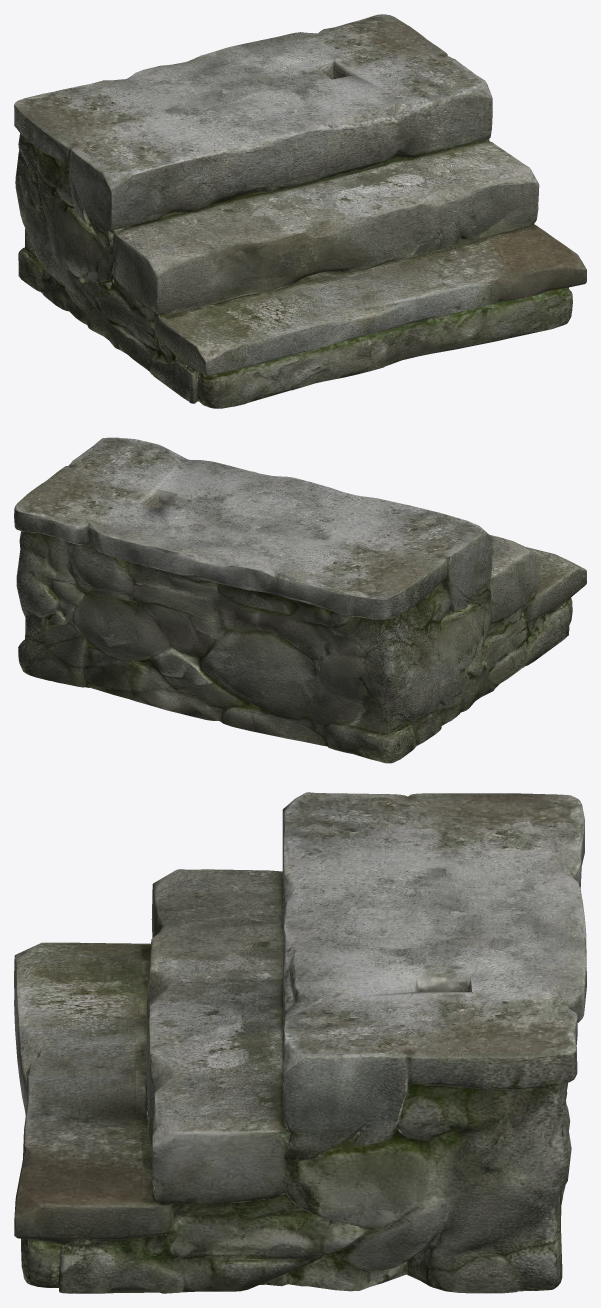
Rendered from stone-steps.glb.
The picture shows the model from 3 angles, top to bottom: view 1: azimuth 30°, elevation 25°; view 2: azimuth 150°, elevation 25°; view 3: azimuth 270°, elevation 25°; orthographic projection. The views are drawn at different scales.
Visible parts, largest first — view 1: Mesh_0; view 2: Mesh_0; view 3: Mesh_0.
Boxes of the visible parts, x1,y1,x2,y2 form: Mesh_0: [14, 14, 586, 408]; Mesh_0: [14, 437, 586, 763]; Mesh_0: [14, 792, 586, 1293].
Size of the model in its own units: 1.9 by 0.7755 by 1.69.
1 material, 1 textured.
